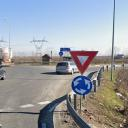preferencia: (68, 50, 100, 76)
